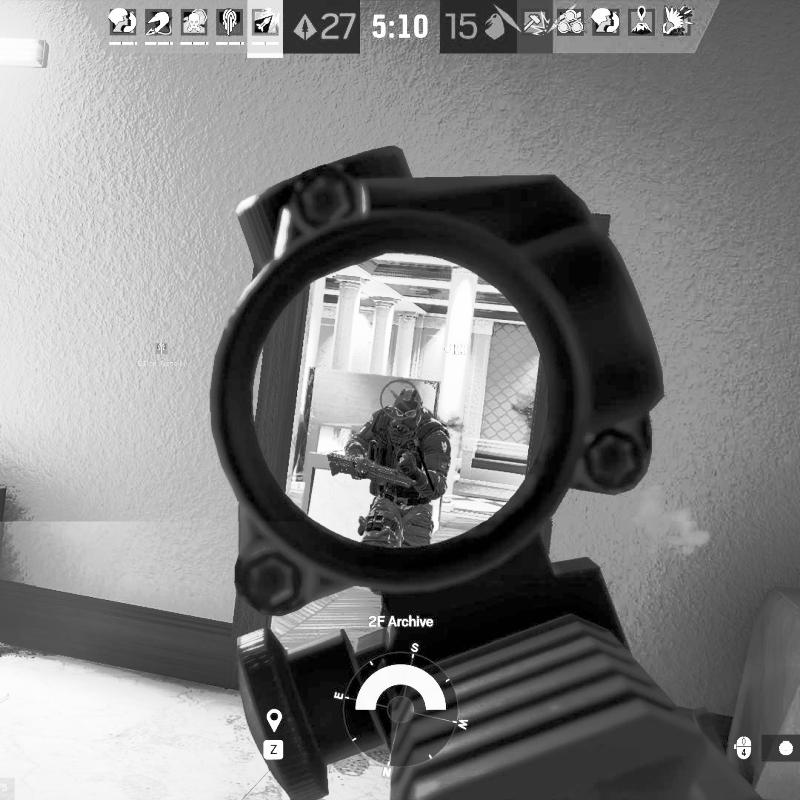Character: (344, 386, 454, 548)
Friend_label: (138, 341, 188, 368)
Head: (392, 388, 424, 426)
